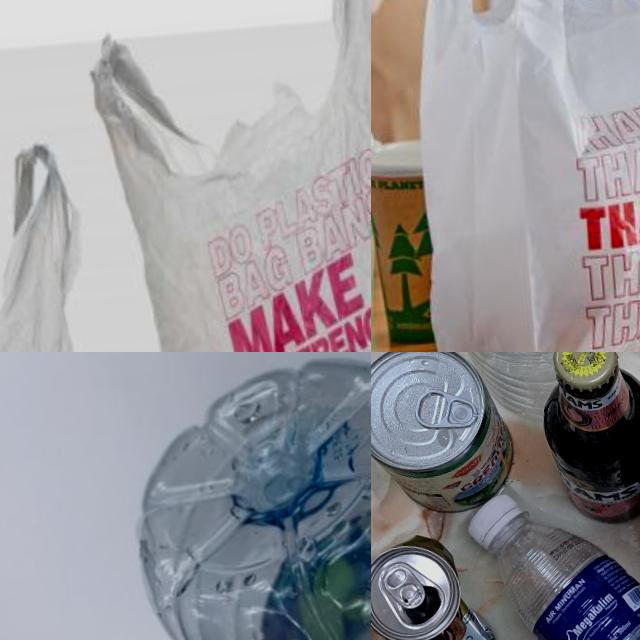aba de lata: (412, 386, 478, 431), (380, 565, 425, 613)
garrafa de vidro: (533, 352, 640, 530)
garrafa plástica: (121, 352, 371, 640), (496, 500, 640, 640), (393, 352, 627, 436)
lata: (371, 352, 518, 516), (371, 527, 501, 640)
sacola plástica: (73, 0, 371, 352), (385, 0, 640, 352), (0, 50, 112, 352)
tampa plástica: (463, 492, 522, 548)
